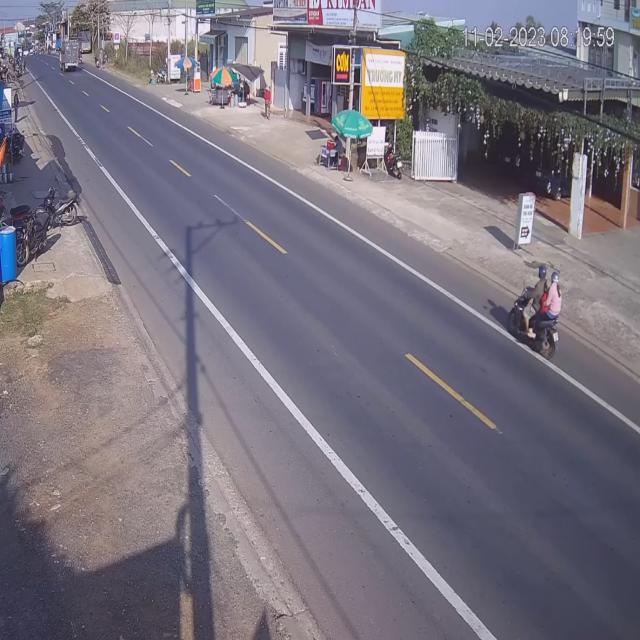motorbike: (508, 262, 562, 359)
truck: (59, 42, 82, 72)
